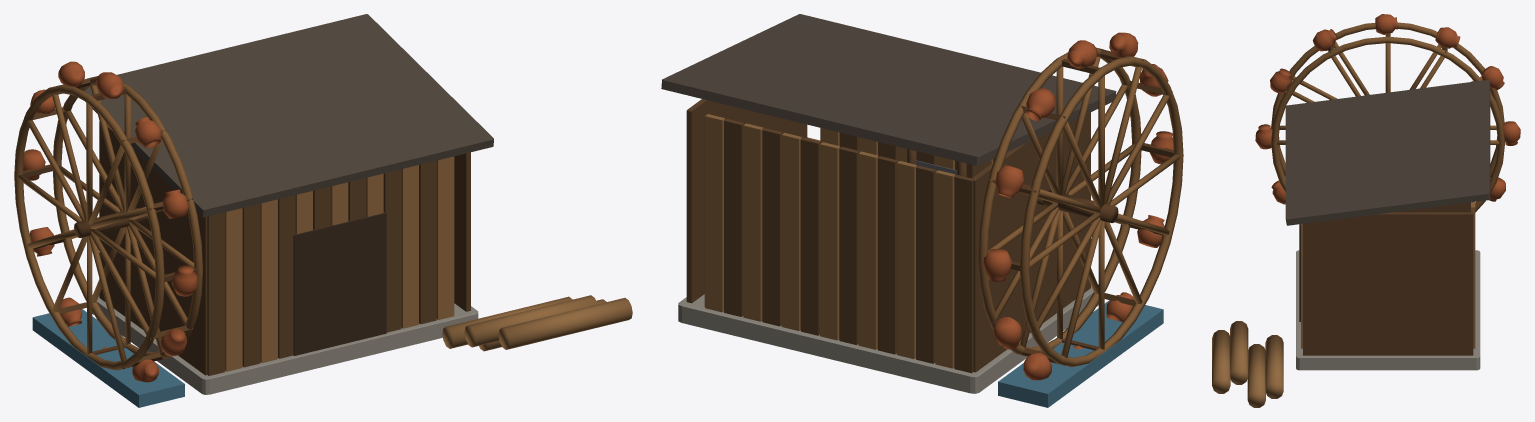
Rendered from saegemuehle.glb.
3 views of the same model, side by side, from view 1: azimuth 30°, elevation 25°; view 2: azimuth 150°, elevation 25°; view 3: azimuth 270°, elevation 25° (orthographic). The views are drawn at different scales.
Visible parts, largest first — view 1: Torus; view 2: Torus; view 3: Torus.
Part boxes in pixels (x1=…): Torus: x1=14, y1=14, x2=632, y2=407; Torus: x1=661, y1=14, x2=1183, y2=407; Torus: x1=1212, y1=14, x2=1520, y2=407.
Size of the model in its own units: 5.8 by 3.74 by 4.35.
